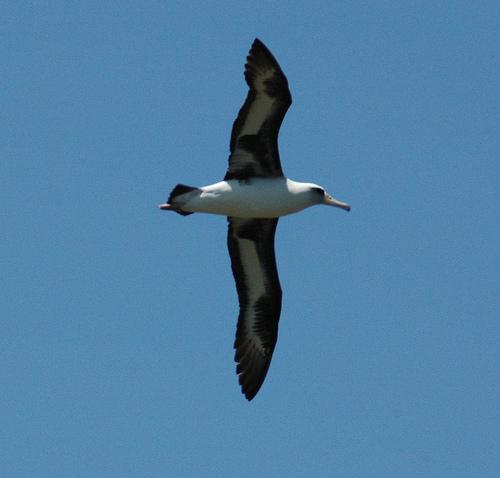002.Laysan_Albatross: (157, 38, 350, 402)
